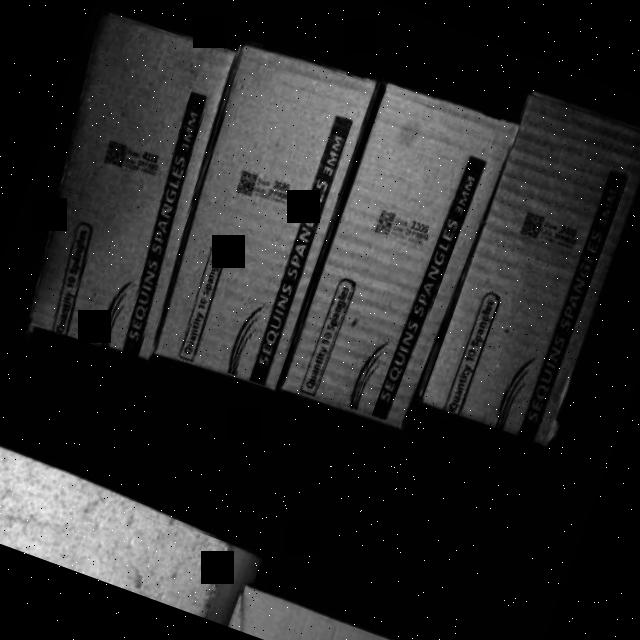box: (136, 40, 388, 400), (0, 16, 251, 365), (282, 88, 511, 432), (423, 92, 640, 451)
